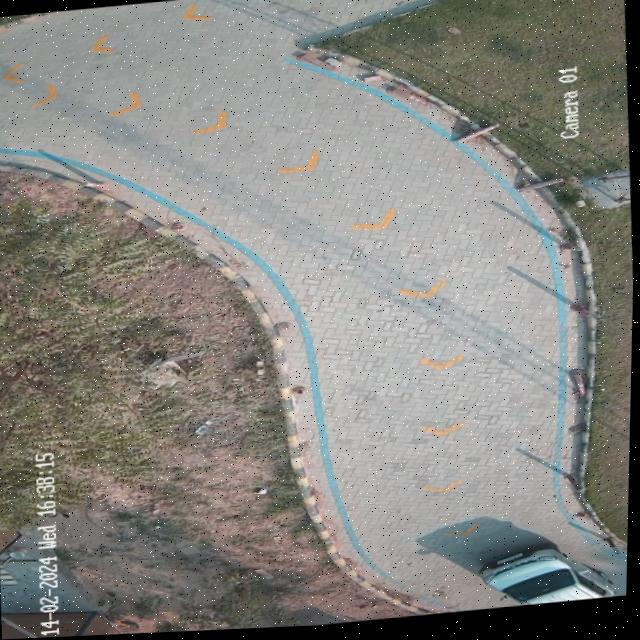car: (479, 550, 622, 610)
